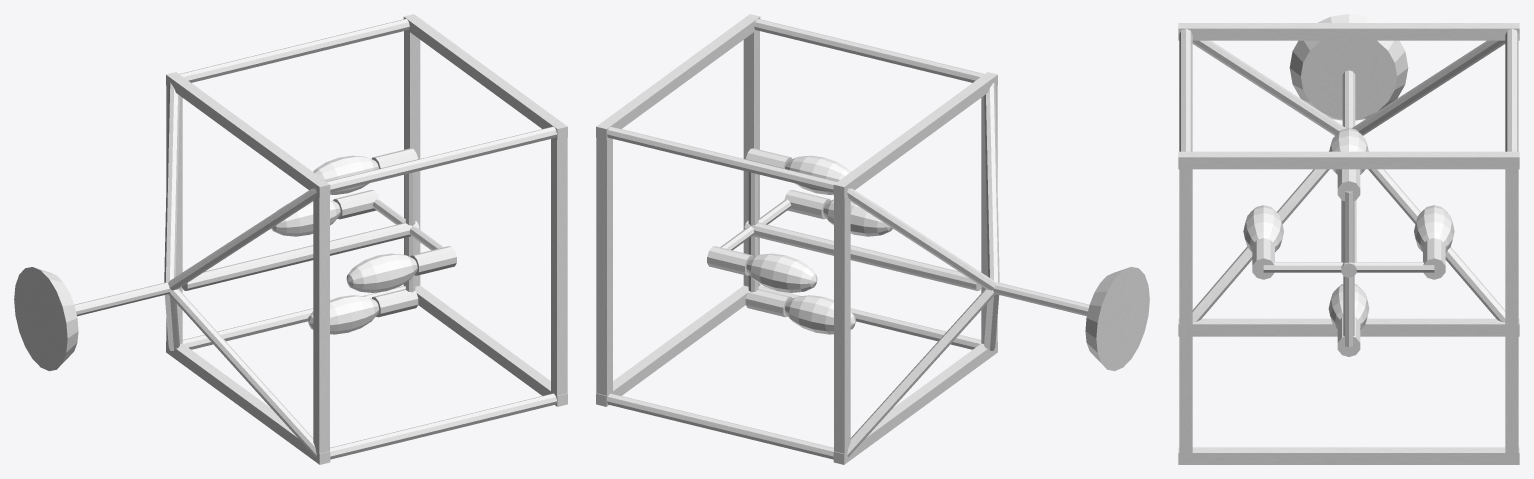
The model's file is lanternfoyerchandelier.obj.
3 renders of one model, left to right at view 1: azimuth 30°, elevation 25°; view 2: azimuth 150°, elevation 25°; view 3: azimuth 270°, elevation 25°, orthographic. The views are drawn at different scales.
Parts seen in each view (by area): view 1: Metal, Base, Light1, Light2, Light0, Light3; view 2: Metal, Base, Light3, Light2, Light0, Light1; view 3: Metal, Base, Light1, Light3, Light2, Light0.
Boxes of the visible parts, left/top/right/bottom form: Metal: left=74, top=14, right=567, bottom=464; Base: left=14, top=267, right=78, bottom=371; Light1: left=346, top=253, right=417, bottom=292; Light2: left=308, top=295, right=379, bottom=334; Light0: left=313, top=155, right=378, bottom=194; Light3: left=271, top=199, right=340, bottom=236; Metal: left=596, top=14, right=1089, bottom=464; Base: left=1085, top=267, right=1149, bottom=371; Light3: left=746, top=253, right=817, bottom=292; Light2: left=784, top=295, right=855, bottom=334; Light0: left=785, top=155, right=850, bottom=194; Light1: left=823, top=199, right=892, bottom=236; Metal: left=1178, top=23, right=1519, bottom=464; Base: left=1289, top=14, right=1408, bottom=120; Light1: left=1243, top=205, right=1283, bottom=251; Light3: left=1414, top=205, right=1454, bottom=251; Light2: left=1328, top=284, right=1369, bottom=329; Light0: left=1329, top=128, right=1368, bottom=174.
Size of the model in its own units: 1.55 by 0.916 by 0.92.
